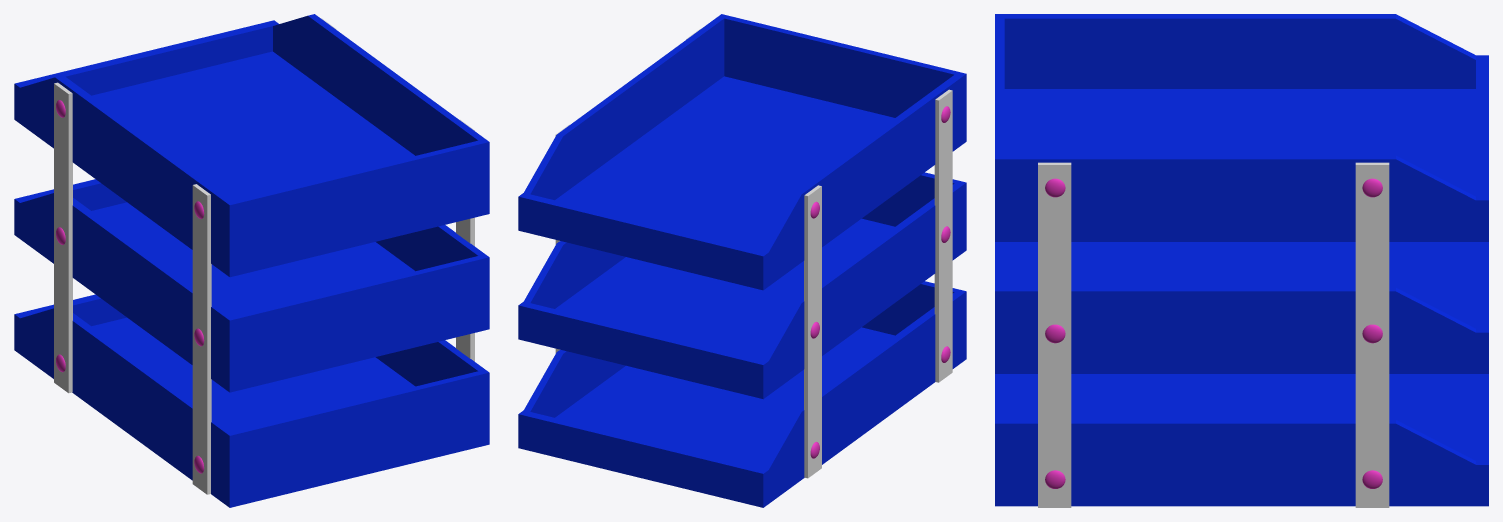
File: MIERDA_ARCHIVADA.fbx
3 renders of one model, left to right at view 1: azimuth 30°, elevation 25°; view 2: azimuth 150°, elevation 25°; view 3: azimuth 270°, elevation 25°, orthographic. The views are drawn at different scales.
Visible parts, largest first — view 1: Sphere.007; view 2: Sphere.007; view 3: Sphere.007.
Boxes of the visible parts, left/top/right/bottom form: Sphere.007: left=14, top=14, right=489, bottom=507; Sphere.007: left=518, top=14, right=966, bottom=507; Sphere.007: left=995, top=14, right=1488, bottom=507.
Bounding box in the file's own units: 450 × 476 × 614.
